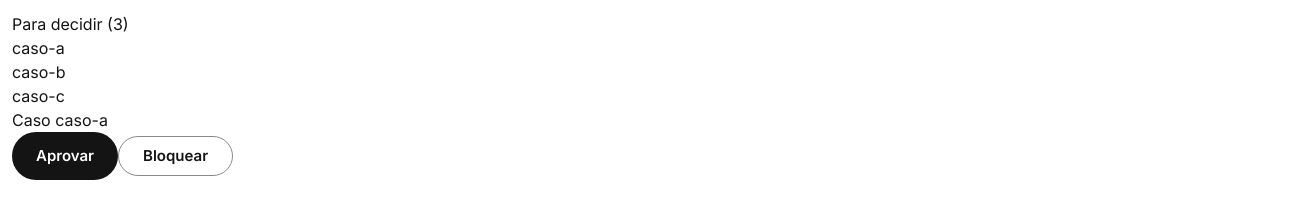
Decision failure, unknown outcome and conflict (T106; AC 34, 35; F5, F6) › 409: fila.decide.conflict with decidido_em, the re-read, no alert, no toast, no navigation; focus on the heading
Step 1. Click the button "Aprovar" → (65, 156), box [12,132,118,180]
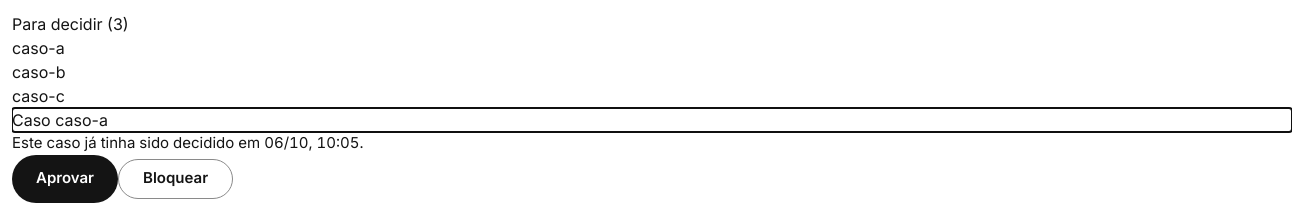
Result: the text "Este caso já tinha sido decidido em 06/10, 10:05." is shown at [12,133,364,152]
